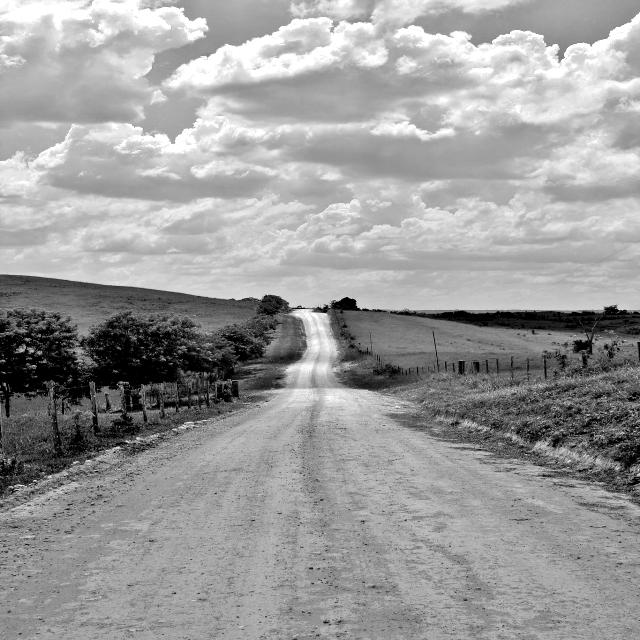cleat: (83, 266, 640, 640)
